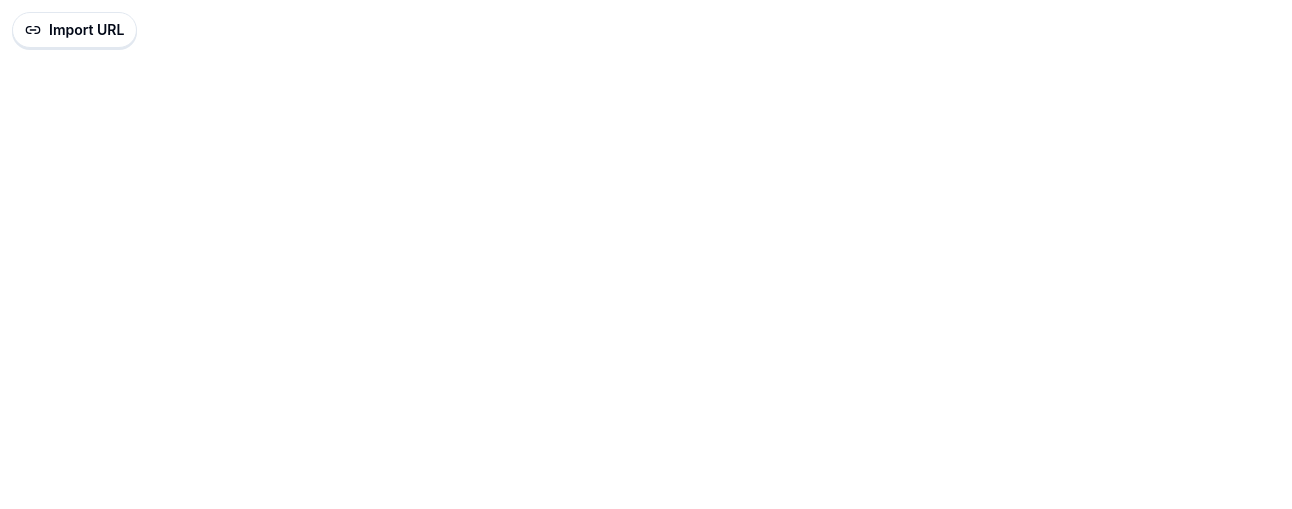
Test: URL import review › does not replace content until explicitly accepted
The width and height of the screenshot is (1292, 509).
Click the button "Import URL" at (75,30), box top-left (12, 12), bottom-right (137, 48)
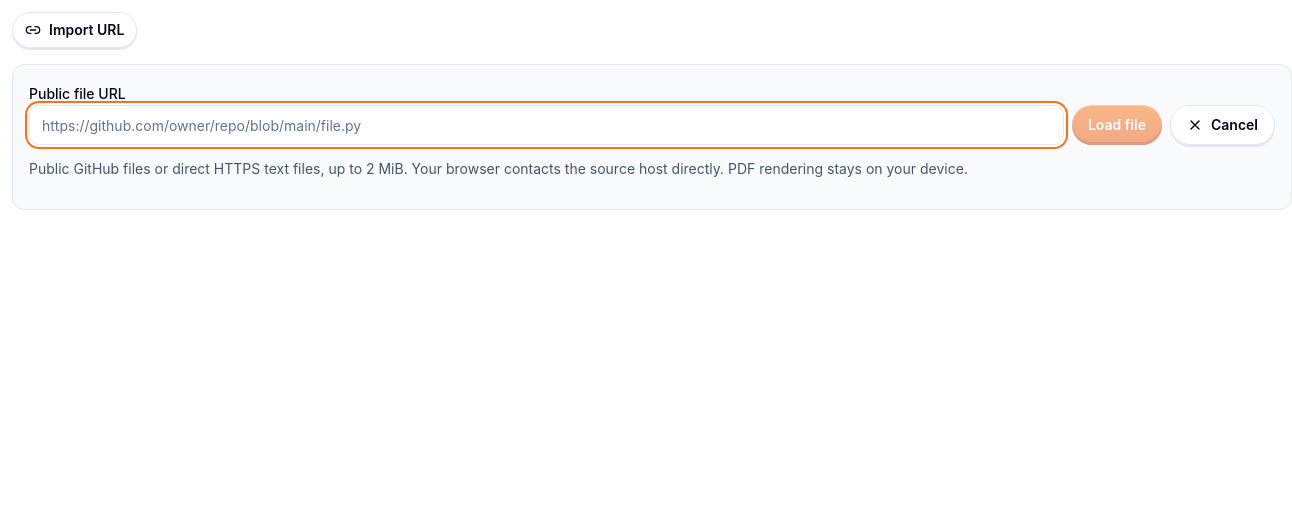
Type "https://example.org/main.py" into the field labelled "Public file URL" at (546,125), box top-left (29, 105), bottom-right (1064, 145)
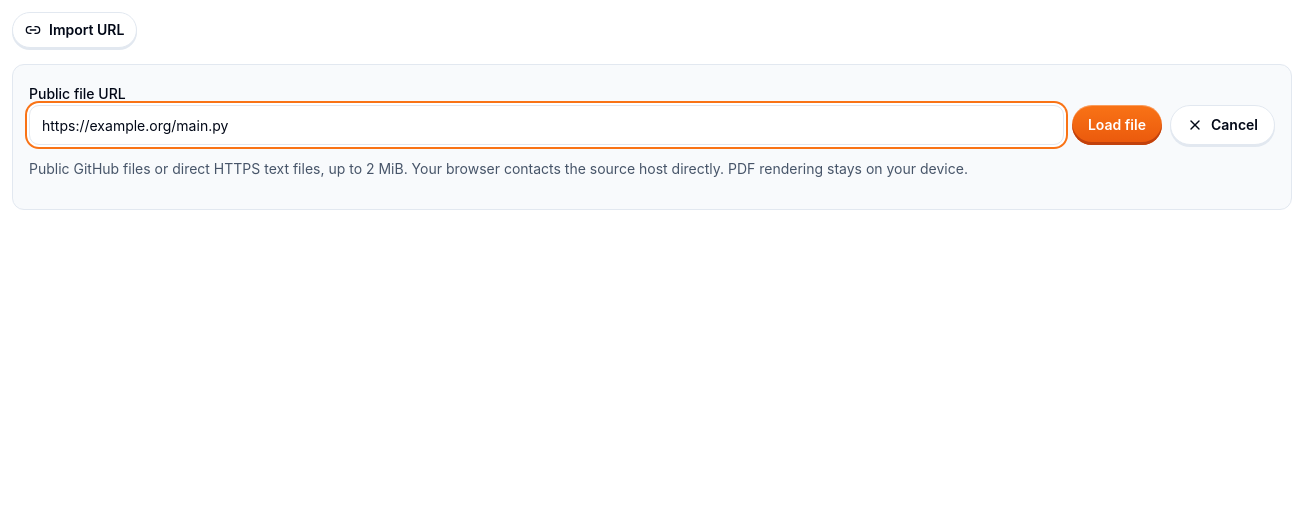
Submit the form labelled "Public file URL", box top-left (29, 81), bottom-right (1275, 181)
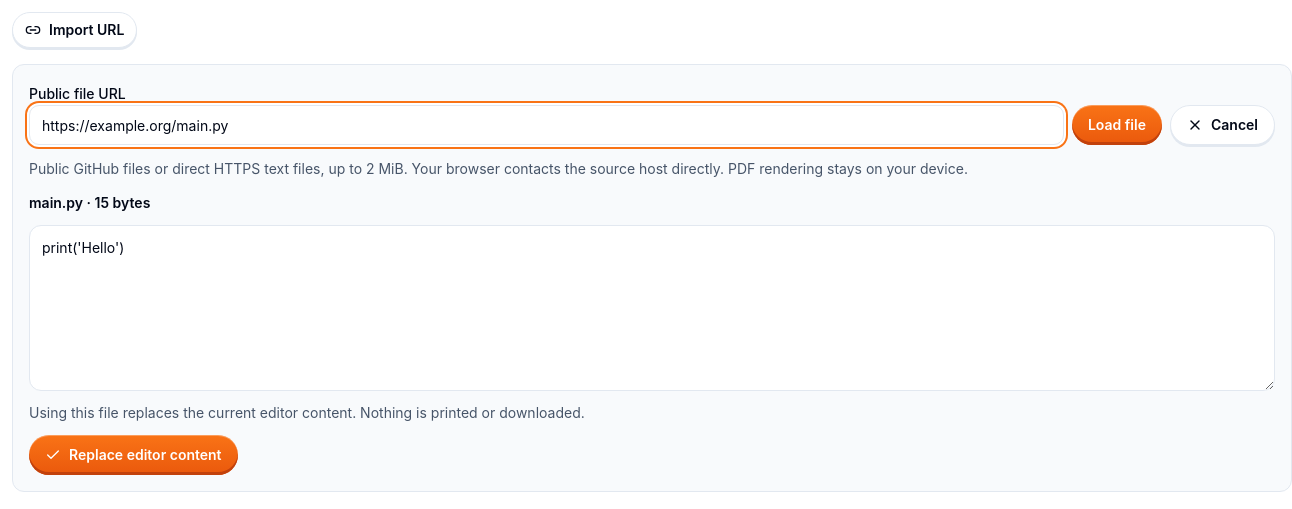
Click the button "Replace editor content" at (133,455), box top-left (29, 435), bottom-right (238, 475)
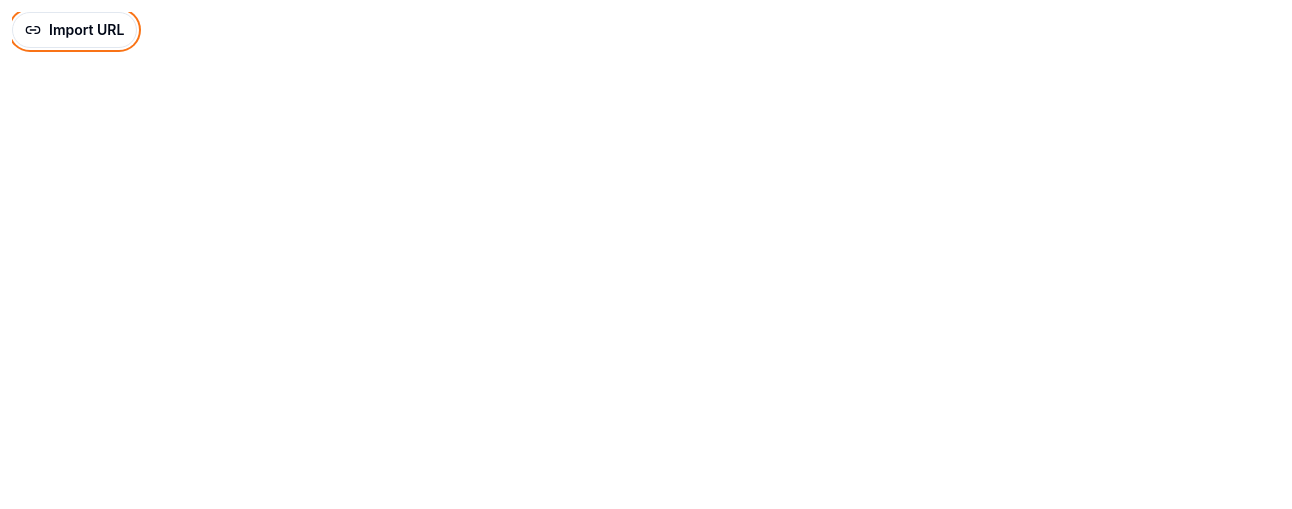
Now the label labelled "Public file URL" is gone
